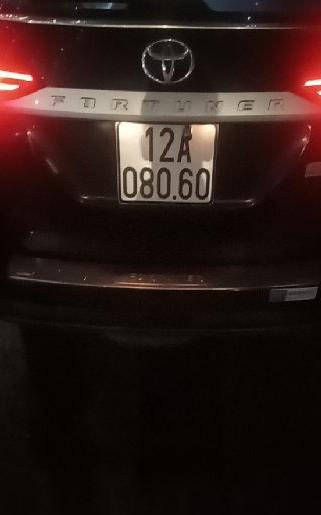Plate-iWeP: (115, 121, 218, 206)
